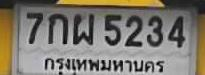2: (124, 14, 142, 46)
3: (146, 15, 162, 46)
4: (167, 15, 184, 47)
5: (104, 14, 121, 44)
7: (26, 12, 42, 42)
A01: (47, 13, 67, 44)
A28: (72, 12, 94, 44)
BKK: (39, 54, 167, 75)
